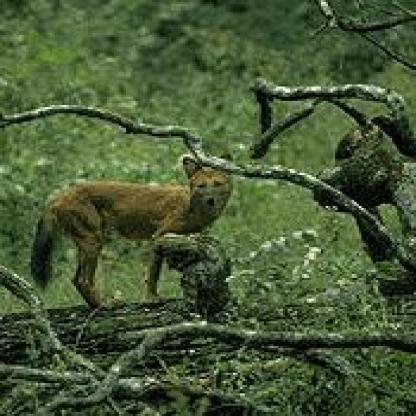dhole: (24, 154, 235, 303)
